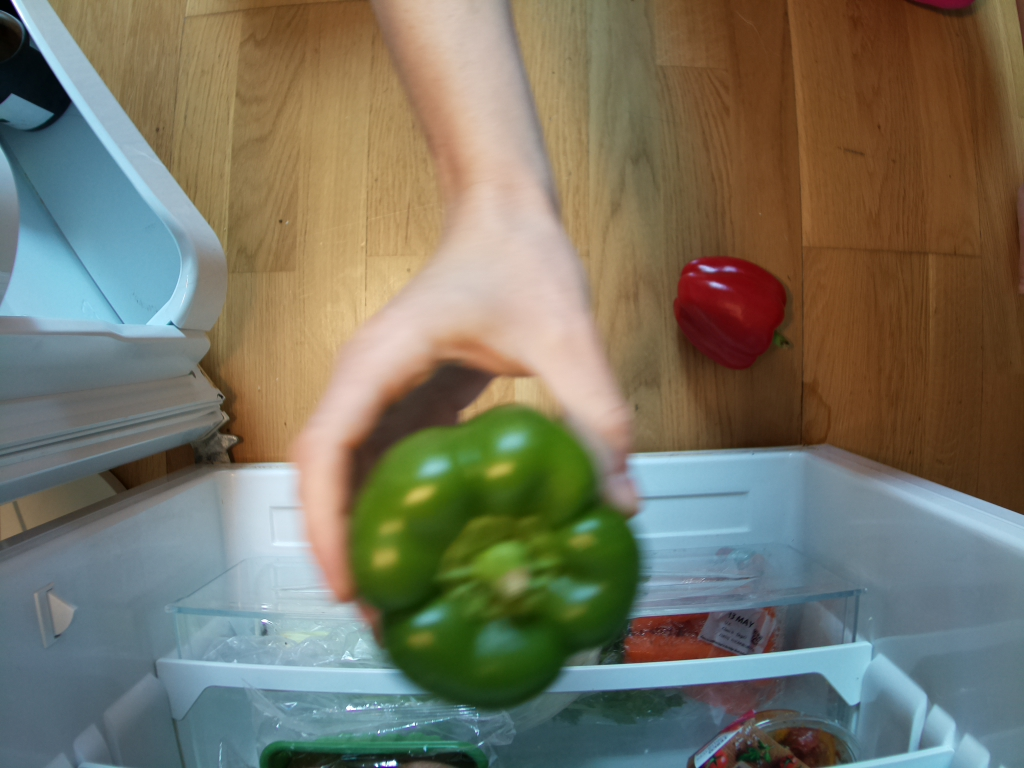pepper: (346, 402, 643, 711), (676, 254, 797, 365)
